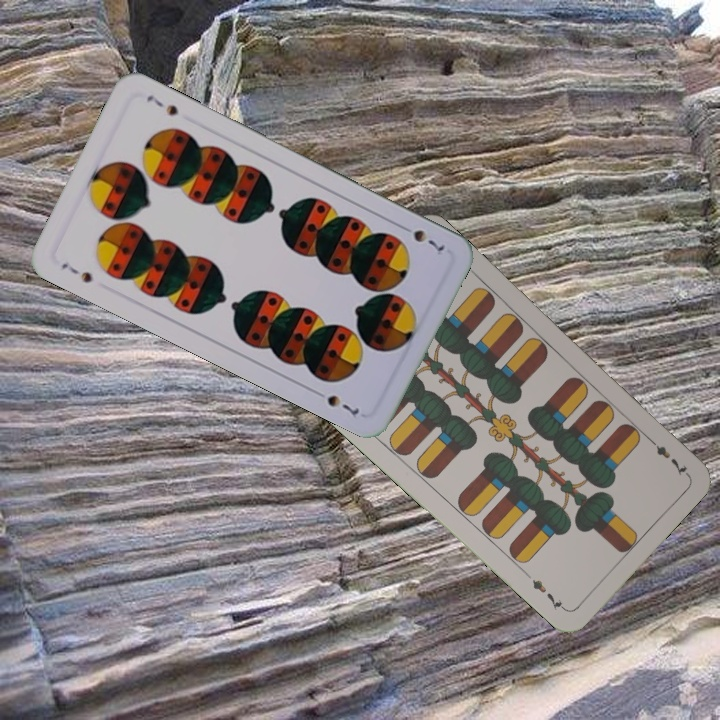E7: (643, 432, 690, 478)
S7: (395, 220, 447, 254), (57, 258, 95, 286)
